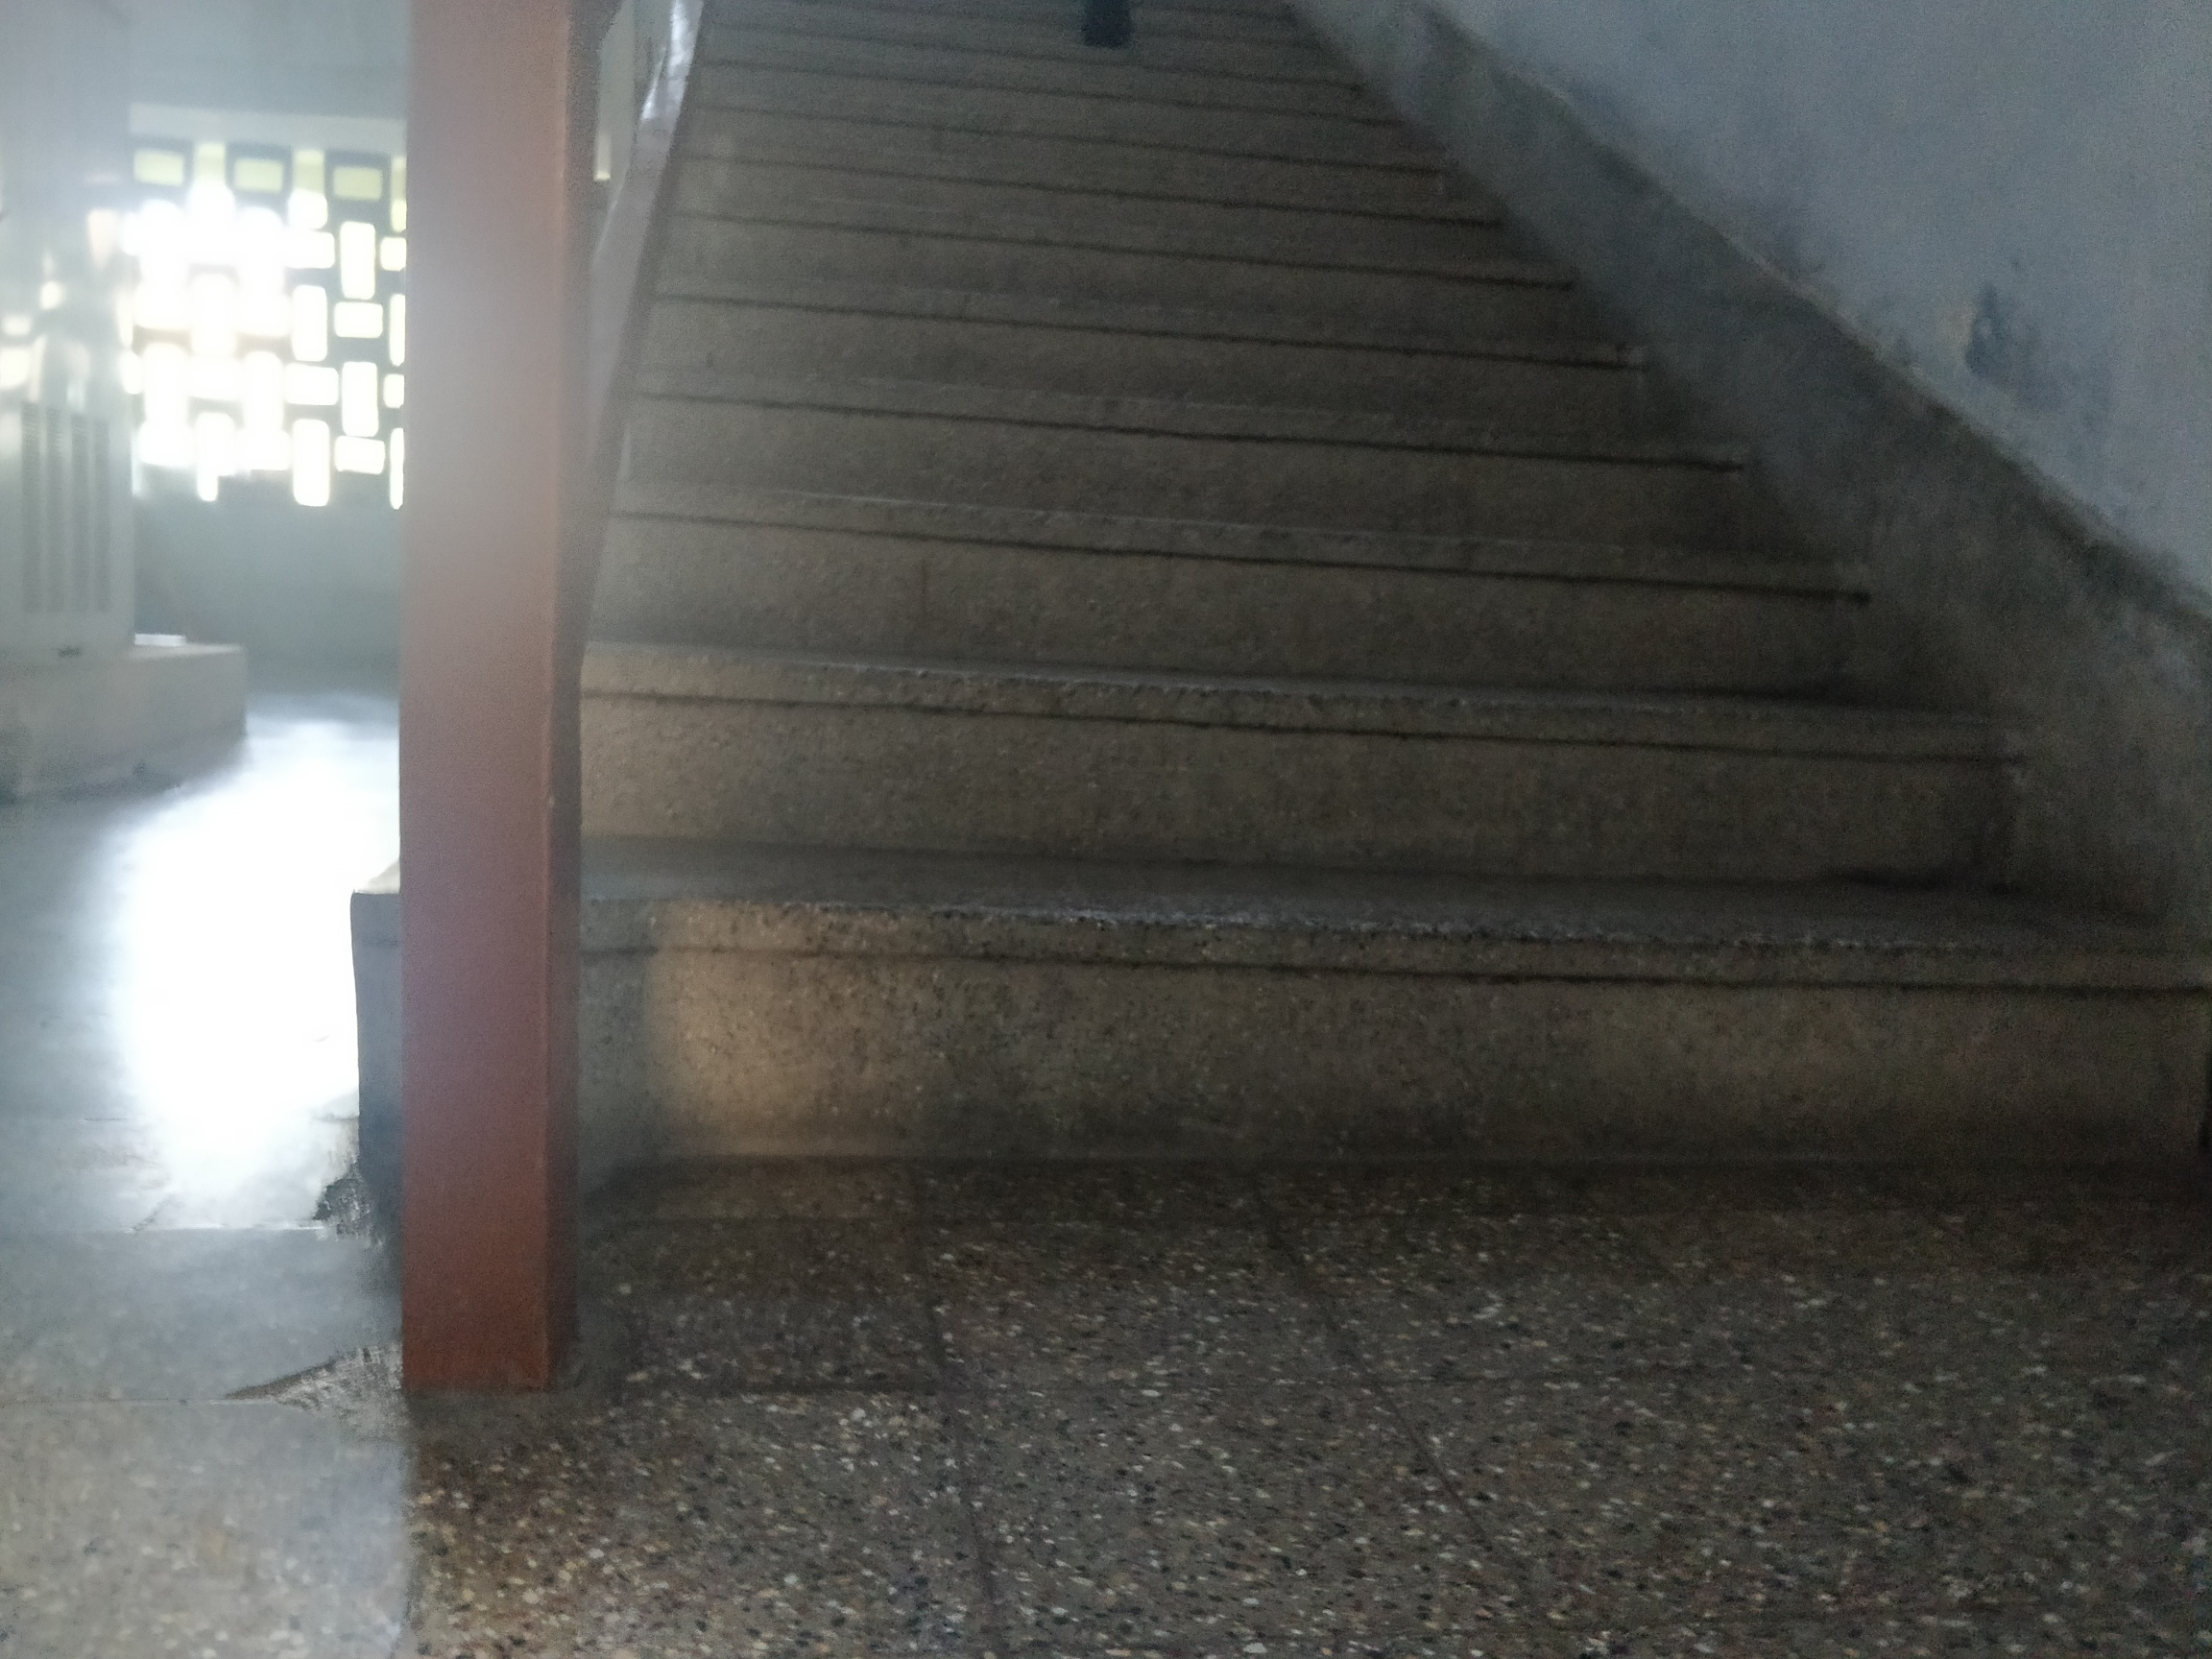stairs_up: (601, 16, 2202, 1218)
